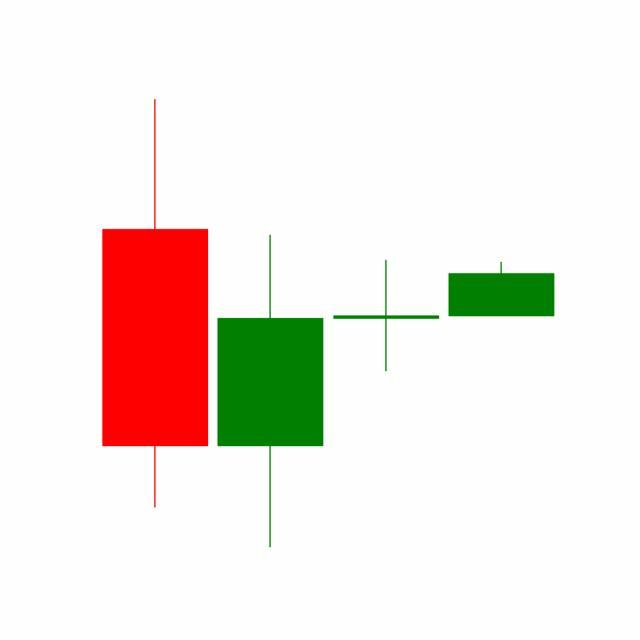Spinning Top: (329, 258, 445, 373)
